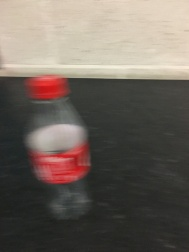paper_white: (7, 70, 121, 234)
